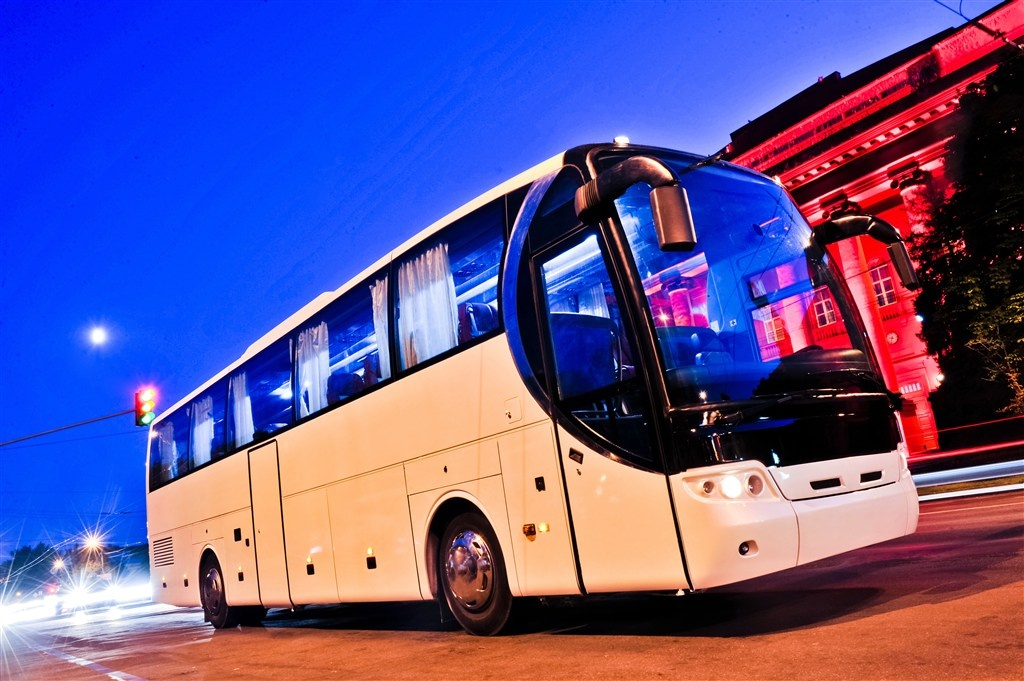bus: (126, 139, 931, 623)
